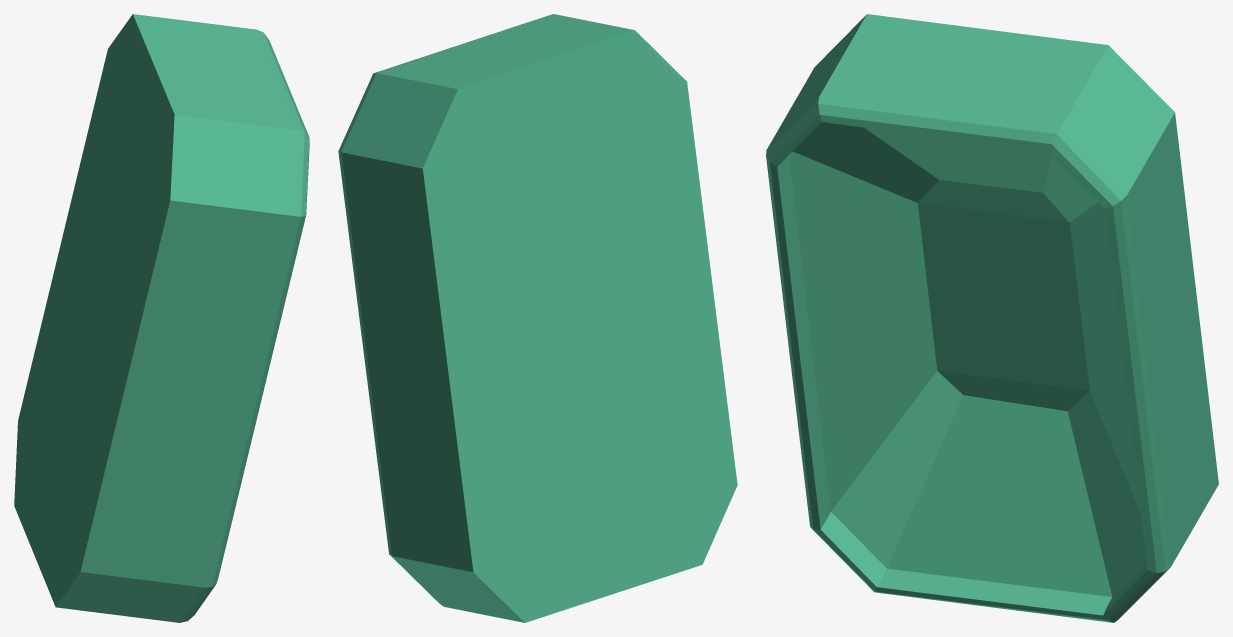
Rendered from TR5_8shapes_Emerald_Classic_Metal.001 3.glb.
The picture shows the model from 3 angles, left to right: view 1: azimuth 30°, elevation 25°; view 2: azimuth 150°, elevation 25°; view 3: azimuth 270°, elevation 25°; orthographic projection. The views are drawn at different scales.
Parts seen in each view (by area): view 1: TR5_8shapes_Emerald_Classic_Metal.001; view 2: TR5_8shapes_Emerald_Classic_Metal.001; view 3: TR5_8shapes_Emerald_Classic_Metal.001.
Part boxes in pixels (box(x1,y1,x2,y2)): TR5_8shapes_Emerald_Classic_Metal.001: box(14, 14, 309, 622); TR5_8shapes_Emerald_Classic_Metal.001: box(338, 14, 737, 622); TR5_8shapes_Emerald_Classic_Metal.001: box(766, 14, 1218, 622).
Bounding box in the file's own units: 0.3688 × 0.6507 × 0.4641.
